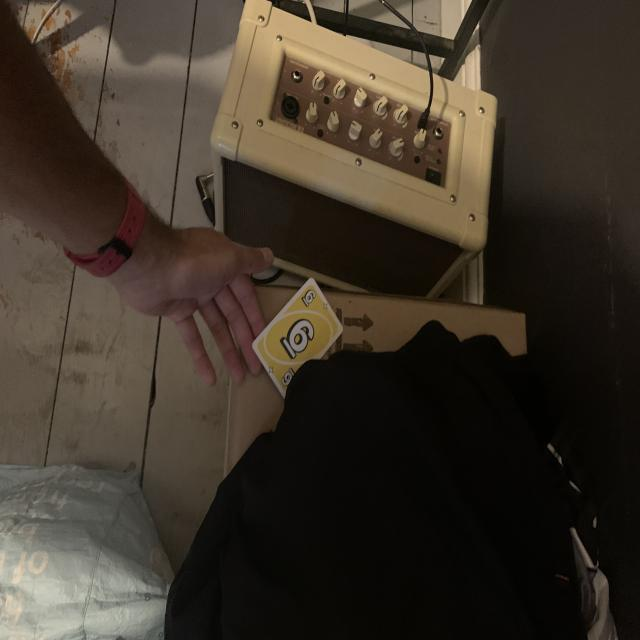lyellow-6: (300, 288, 318, 308)
